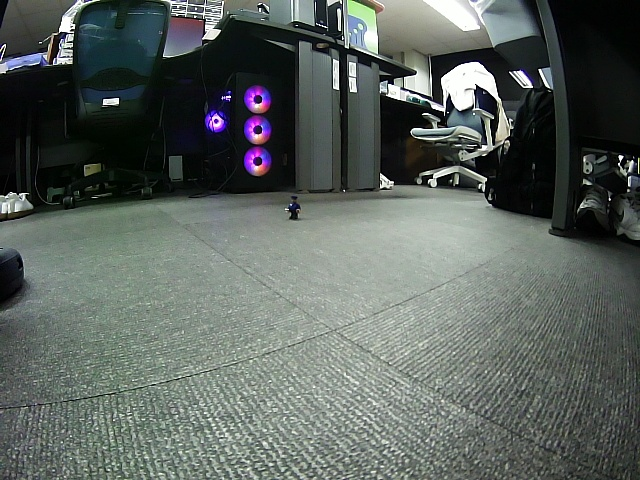person: (285, 195, 302, 221)
